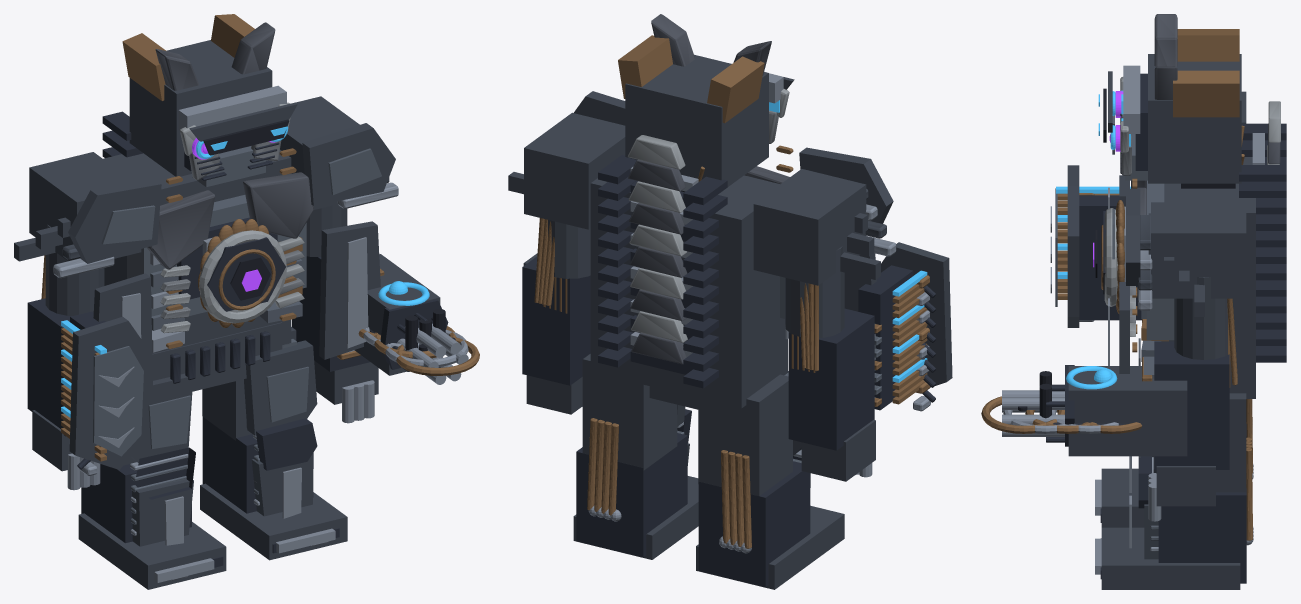
Rendered from Wyrdflux-Iron-Warden-v056.glb.
3 views of the same model, side by side, from view 1: azimuth 30°, elevation 25°; view 2: azimuth 150°, elevation 25°; view 3: azimuth 270°, elevation 25° (orthographic).
Parts seen in each view (by area): view 1: REFORGE0613_MERGED_world_WARDEN | dark brushed titan, HEAD | armored cranial shell, REFORGE0614_HEAVY_SHIELD_HEXAGONAL_DARK_FRONT, TORSO | twelve-inch armored spinal shell, ARM_L | monumental armor cowling, LEG_L | heavy tracked foot, LEG_R | heavy tracked foot, REFORGE0614_long_forearm_shell_R, REFORGE0614_SHIELD_RECESSED_ARMOR, REFORGE0614_shoulder_machined_outer_L, REFORGE0613_MERGED_world_WARDEN | forged tungsten ed, REFORGE0614_shoulder_machined_outer_R (+43 smaller); view 2: TORSO | twelve-inch armored spinal shell, HEAD | armored cranial shell, ARM_L | monumental armor cowling, ARM_L | reinforced forearm, ARM_R | monumental armor cowling, LEG_L | steel lower shin, REFORGE0613_MERGED_world_WARDEN | dark brushed titan, LEG_L | armored mechanical thigh, LEG_R | steel lower shin, ARM_R | reinforced forearm, LEG_R | armored mechanical thigh, REFORGE0613_MERGED_world_WARDEN | forged tungsten ed (+23 smaller); view 3: ARM_R | magnetic cannon main housing, ARM_R | monumental armor cowling, HEAD | armored cranial shell, ARM_R | reinforced forearm, LEG_R | steel lower shin, LEG_R | heavy tracked foot, TORSO | twelve-inch armored spinal shell, REFORGE0613_MERGED_ARM_R_animated shoulder controller_WARDEN (×3), ARM_L | enormous slab kinetic shield, ARM_R | armored upper bicep, HEAD | 1 upper reactor fin, REFORGE0613_MERGED_world_WARDEN | dark brushed titan (+34 smaller).
Boxes of the visible parts, <box> form: REFORGE0613_MERGED_world_WARDEN | dark brushed titan: <box>146,22,313,269</box>; HEAD | armored cranial shell: <box>129,40,272,176</box>; REFORGE0614_HEAVY_SHIELD_HEXAGONAL_DARK_FRONT: <box>69,316,151,469</box>; TORSO | twelve-inch armored spinal shell: <box>103,150,291,353</box>; ARM_L | monumental armor cowling: <box>29,152,141,261</box>; LEG_L | heavy tracked foot: <box>78,513,226,589</box>; LEG_R | heavy tracked foot: <box>200,483,347,560</box>; REFORGE0614_long_forearm_shell_R: <box>319,221,380,359</box>; REFORGE0614_SHIELD_RECESSED_ARMOR: <box>93,346,143,456</box>; REFORGE0614_shoulder_machined_outer_L: <box>68,179,161,263</box>; REFORGE0613_MERGED_world_WARDEN | forged tungsten ed: <box>160,102,304,333</box>; REFORGE0614_shoulder_machined_outer_R: <box>302,123,395,205</box>; TORSO | twelve-inch armored spinal shell: <box>590,175,787,408</box>; HEAD | armored cranial shell: <box>625,54,768,186</box>; ARM_L | monumental armor cowling: <box>753,169,866,285</box>; ARM_L | reinforced forearm: <box>788,308,874,450</box>; ARM_R | monumental armor cowling: <box>524,112,625,229</box>; LEG_L | steel lower shin: <box>698,461,810,587</box>; REFORGE0613_MERGED_world_WARDEN | dark brushed titan: <box>628,14,789,364</box>; LEG_L | armored mechanical thigh: <box>698,374,792,495</box>; LEG_R | steel lower shin: <box>576,433,687,557</box>; ARM_R | reinforced forearm: <box>522,256,590,385</box>; LEG_R | armored mechanical thigh: <box>582,354,677,470</box>; REFORGE0613_MERGED_world_WARDEN | forged tungsten ed: <box>627,89,789,342</box>; ARM_R | magnetic cannon main housing: <box>1068,366,1187,456</box>; ARM_R | monumental armor cowling: <box>1151,202,1246,298</box>; HEAD | armored cranial shell: <box>1148,54,1241,183</box>; ARM_R | reinforced forearm: <box>1154,341,1229,469</box>; LEG_R | steel lower shin: <box>1158,488,1246,583</box>; LEG_R | heavy tracked foot: <box>1101,527,1240,589</box>; TORSO | twelve-inch armored spinal shell: <box>1164,157,1255,398</box>; REFORGE0613_MERGED_ARM_R_animated shoulder controller_WARDEN (×3): <box>981,215,1237,433</box>; ARM_L | enormous slab kinetic shield: <box>1079,195,1141,320</box>; ARM_R | armored upper bicep: <box>1174,277,1233,359</box>; HEAD | 1 upper reactor fin: <box>1173,70,1239,117</box>; REFORGE0613_MERGED_world_WARDEN | dark brushed titan: <box>1131,14,1280,214</box>.
Size of the model in its own units: 4.53 by 5.78 by 3.19.
